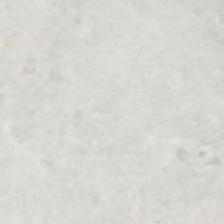Non_Crack: (23, 16, 224, 196)
